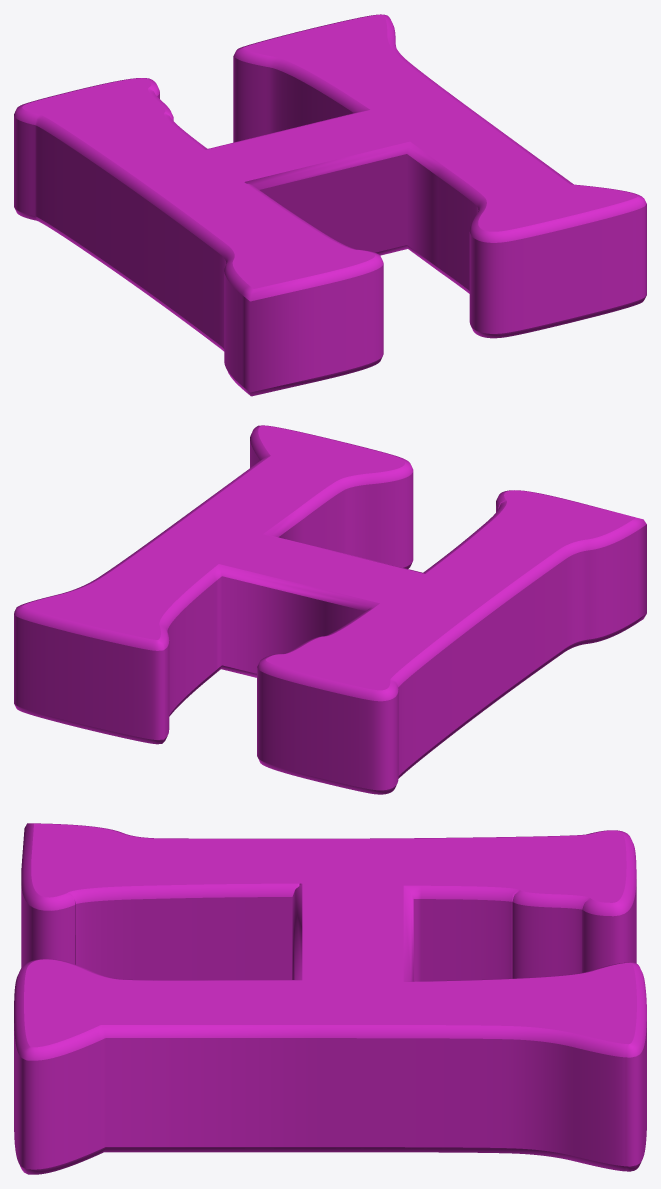
Rendered from Bubble_LetterH.fbx.
3 views of the same model, one above another, from view 1: azimuth 30°, elevation 25°; view 2: azimuth 150°, elevation 25°; view 3: azimuth 270°, elevation 25° (orthographic). The views are drawn at different scales.
Parts seen in each view (by area): view 1: BubbleLetter_H; view 2: BubbleLetter_H; view 3: BubbleLetter_H.
Boxes of the visible parts, left/top/right/bottom form: BubbleLetter_H: left=14, top=14, right=646, bottom=396; BubbleLetter_H: left=14, top=425, right=646, bottom=794; BubbleLetter_H: left=14, top=823, right=646, bottom=1174.
Size of the model in its own units: 0.5492 by 0.14 by 0.6322.
